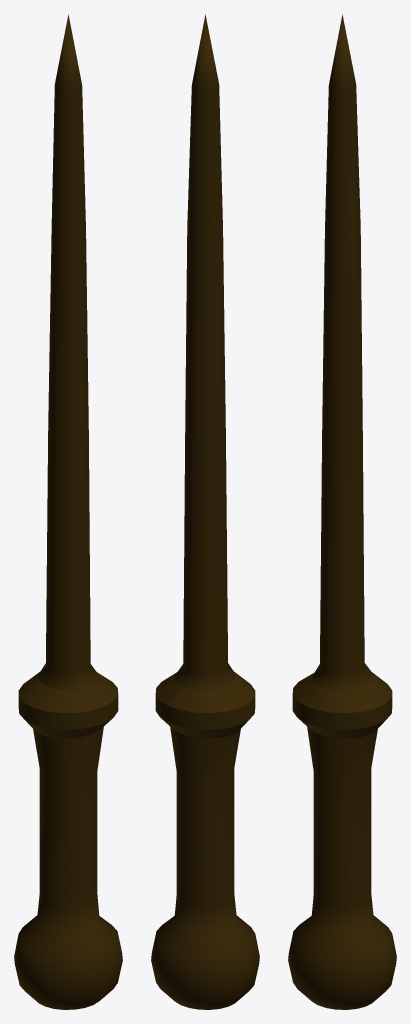
File: wand 1.fbx
3 renders of one model, left to right at view 1: azimuth 30°, elevation 25°; view 2: azimuth 150°, elevation 25°; view 3: azimuth 330°, elevation 25°, orthographic.
Parts seen in each view (by area): view 1: wand; view 2: wand; view 3: wand.
Boxes of the visible parts, x1,y1,x2,y2 form: wand: (14,14,122,1009); wand: (151,14,259,1009); wand: (288,14,396,1009).
Size of the model in its own units: 8.41 by 82.8 by 8.09.
